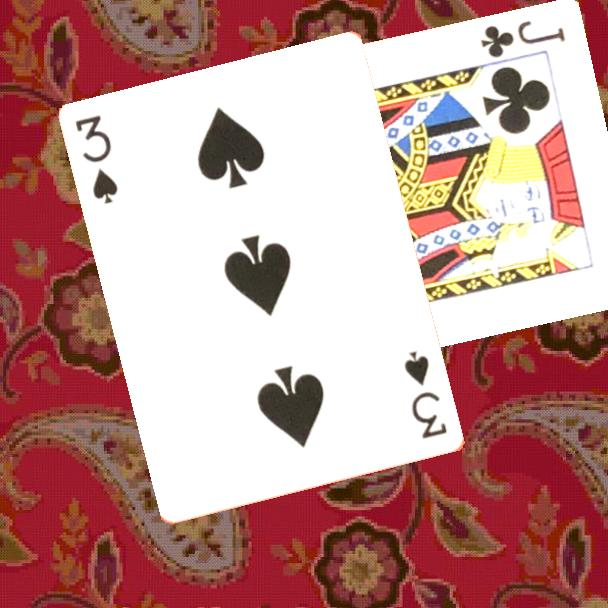c11: (477, 18, 568, 62)
s03: (72, 111, 122, 207), (401, 347, 451, 442)
